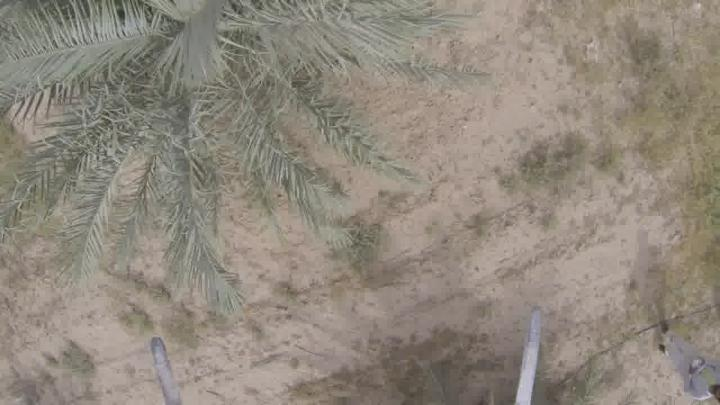Date-Palm-Crown: (31, 0, 299, 148)
